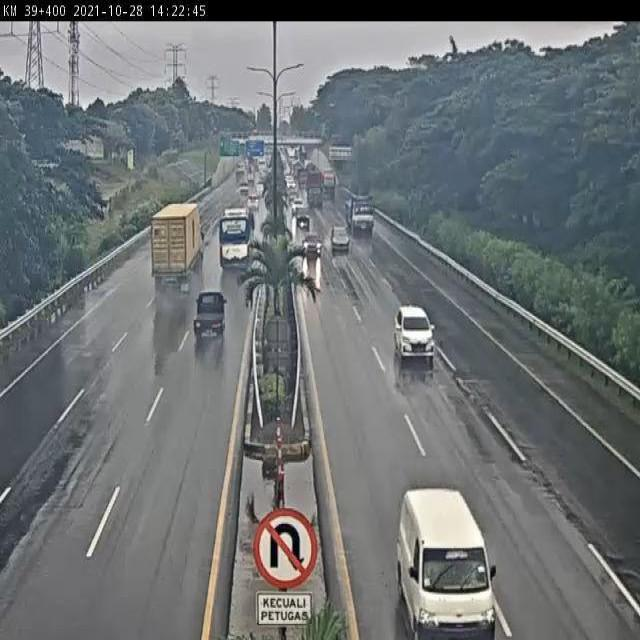bus-l-: (219, 205, 256, 267)
car: (193, 288, 229, 341)
truck-xl-: (151, 202, 207, 290)
